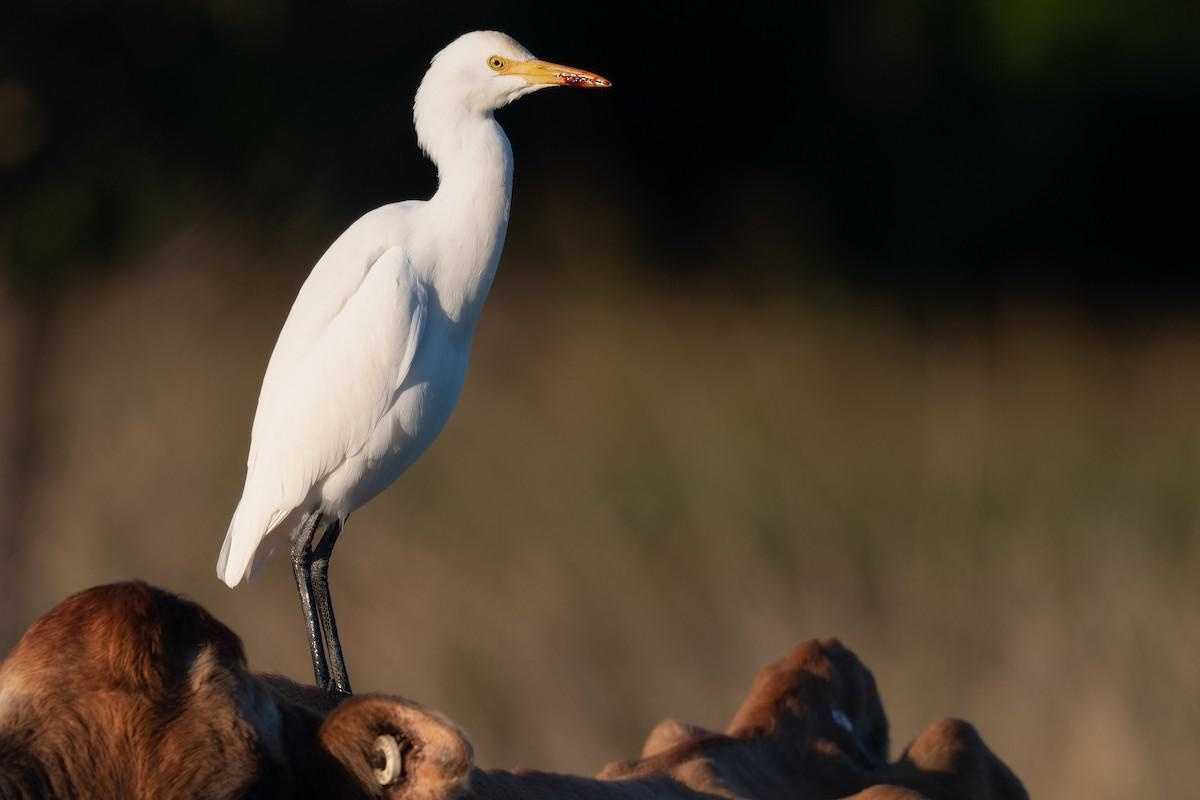egret: (216, 26, 625, 651)
